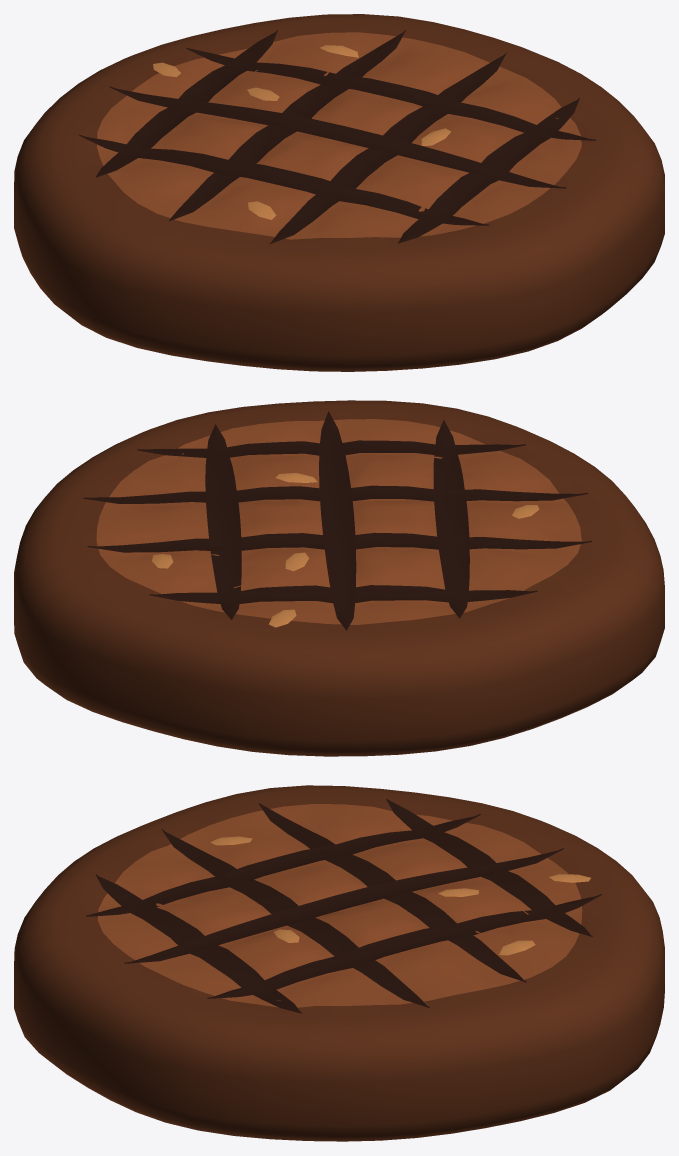
The model's file is patty_cooked.glb.
The picture shows the model from 3 angles, top to bottom: view 1: azimuth 30°, elevation 25°; view 2: azimuth 150°, elevation 25°; view 3: azimuth 270°, elevation 25°; orthographic projection.
Visible parts, largest first — view 1: PattyCooked; view 2: PattyCooked; view 3: PattyCooked.
Boxes of the visible parts, <box> form: PattyCooked: <box>14,14,664,371</box>; PattyCooked: <box>14,400,664,756</box>; PattyCooked: <box>14,785,664,1141</box>.
Size of the model in its own units: 3 by 0.6 by 3.
